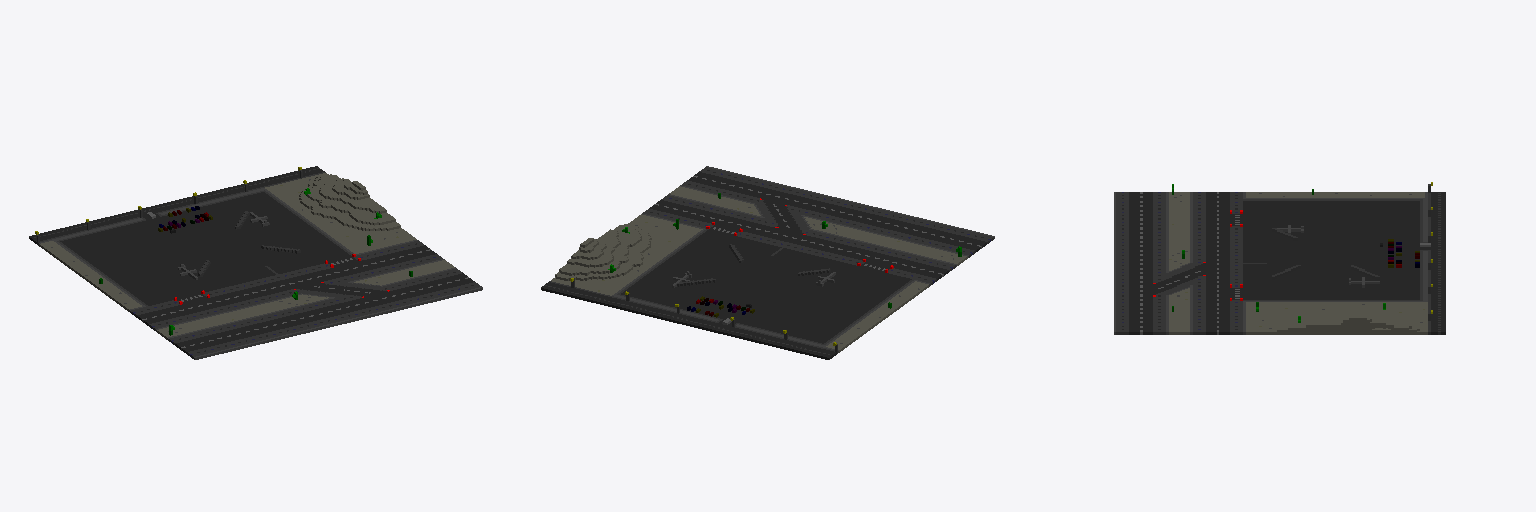
The picture shows the model from 3 angles: view 1: azimuth 30°, elevation 25°; view 2: azimuth 150°, elevation 25°; view 3: azimuth 270°, elevation 25°; orthographic projection.
Bounding box in the file's own units: 126 × 7 × 126.
Materials: 1 (1 with a texture image).